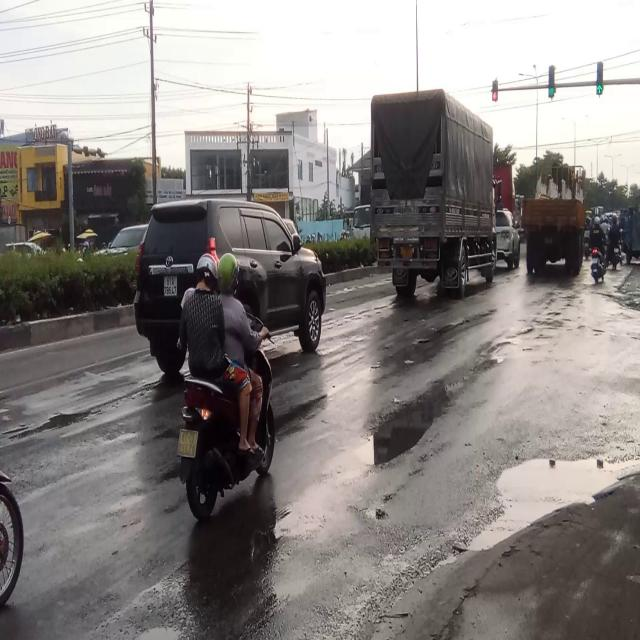bien_trang: (178, 428, 198, 462), (162, 273, 180, 299)
